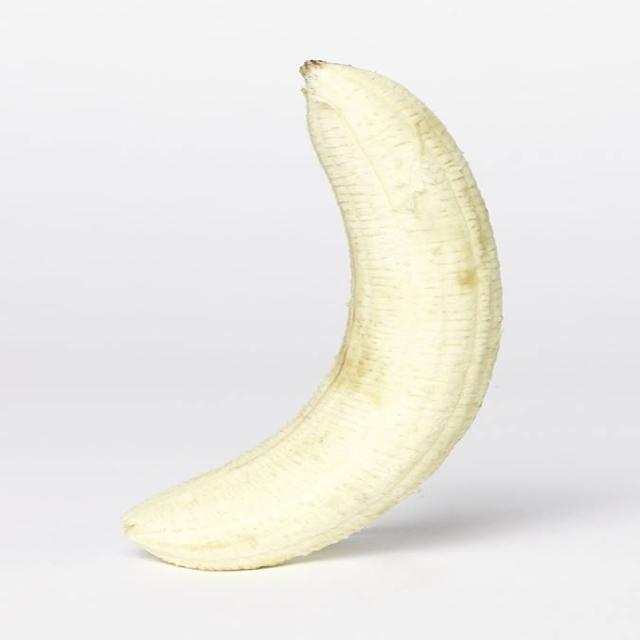banana: (124, 62, 501, 569)
